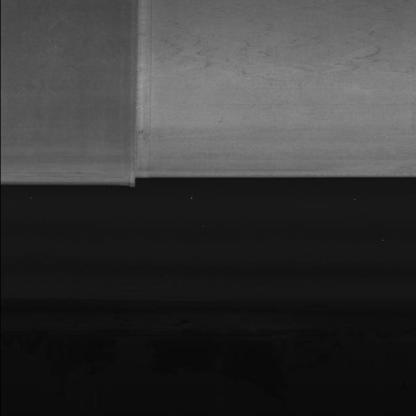silk_spot: (160, 9, 408, 94)
welding_line: (117, 4, 151, 190)
